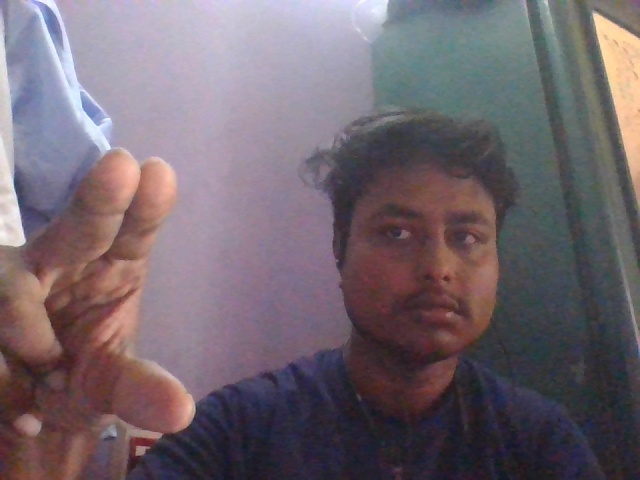no: (1, 142, 203, 456)
